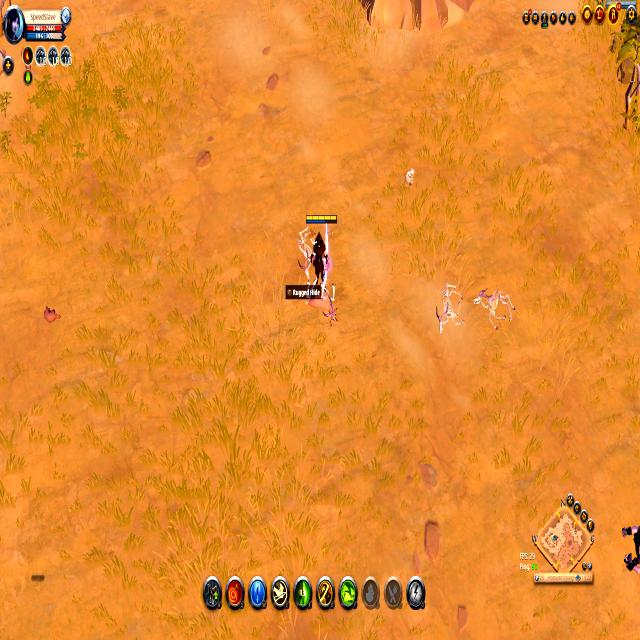mob: (295, 271, 339, 327)
ore: (622, 516, 640, 579)
red: (298, 210, 337, 287)
